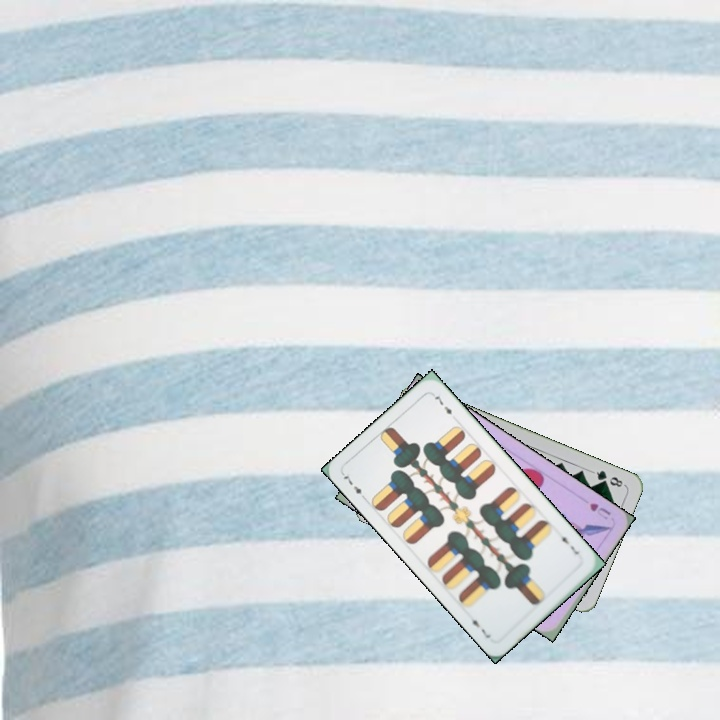E7: (339, 470, 369, 503), (556, 529, 581, 557)
G8: (588, 466, 627, 490)
HU: (585, 499, 614, 522)
